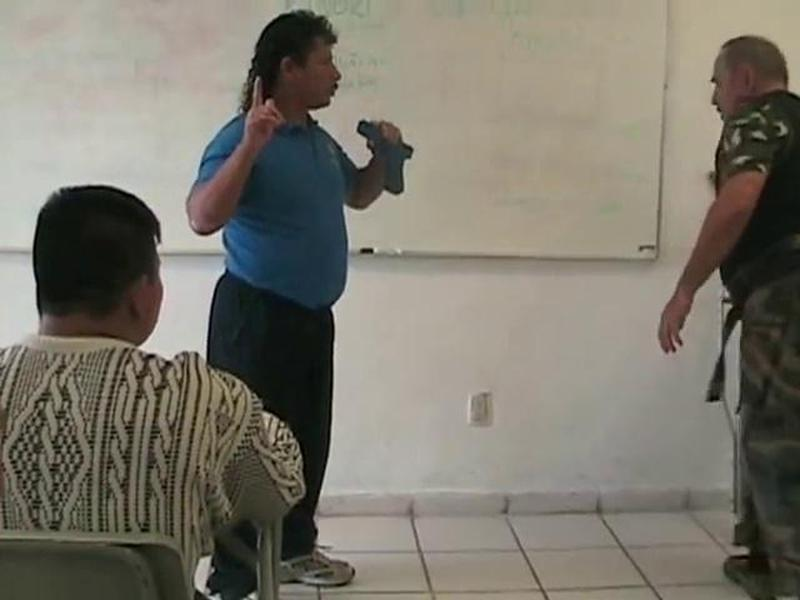Pistola: (350, 113, 427, 208)
